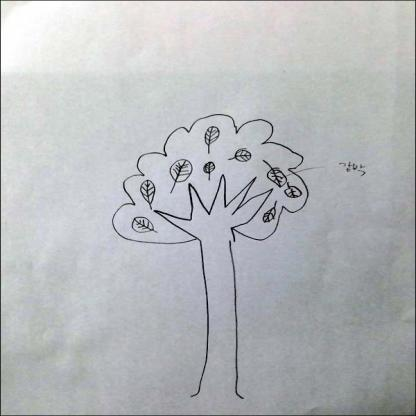branch_sharp: (154, 175, 273, 240)
crown_cloud: (113, 114, 309, 245)
trunk_straight: (200, 250, 240, 376)
